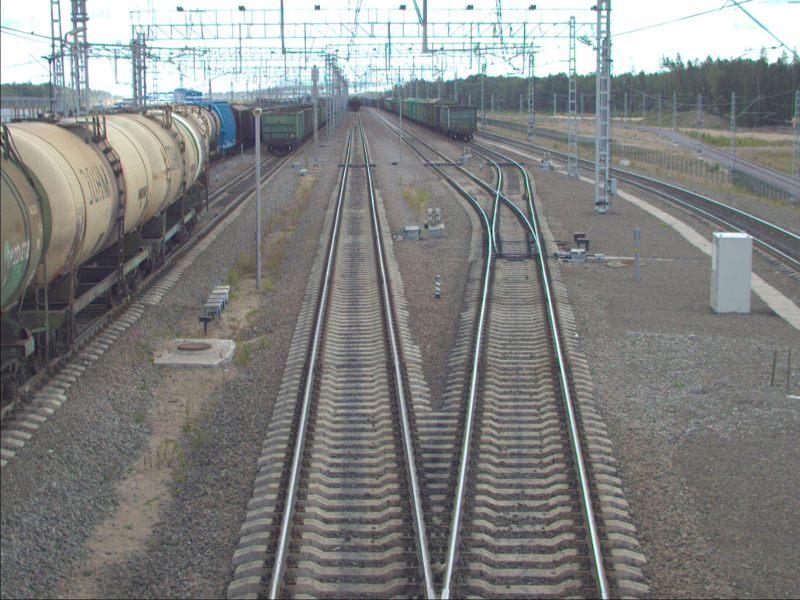left: (485, 187, 545, 258)
